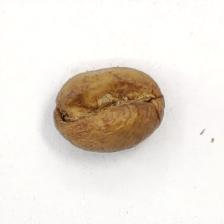NG: (61, 82, 158, 136)
